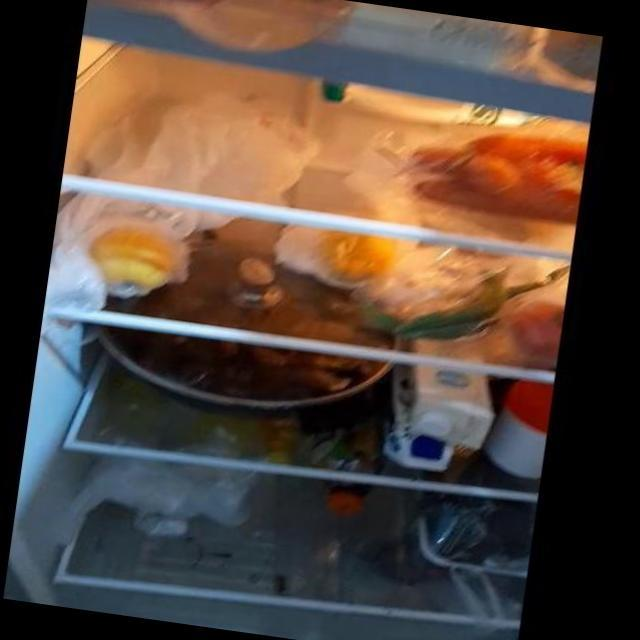Brocoli: (414, 488, 538, 585)
Limón: (87, 227, 190, 300), (312, 224, 403, 292)
Queso: (346, 2, 533, 77)
Zanahoria: (414, 125, 589, 222)
green chilies: (380, 265, 519, 351)
milk: (387, 364, 498, 480)
tomato paste: (502, 295, 566, 360)
